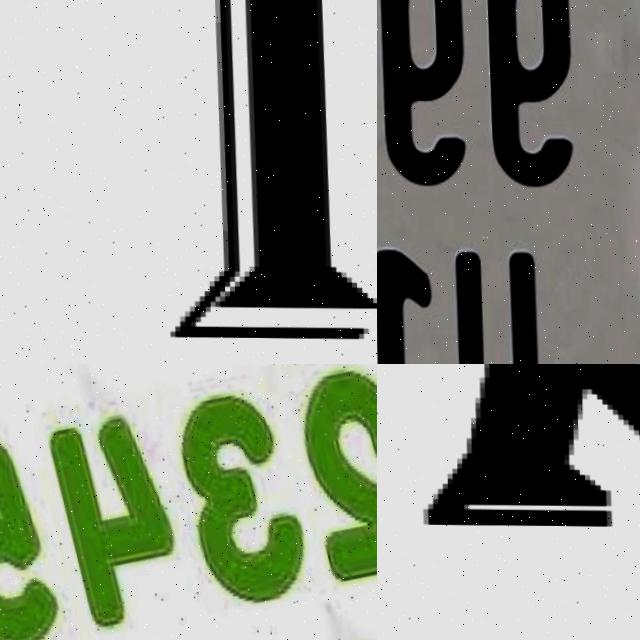1: (377, 247, 438, 364)
2: (276, 364, 377, 588)
3: (159, 380, 319, 612)
4: (28, 400, 194, 633)
5: (0, 428, 69, 640)
9: (472, 0, 575, 188), (377, 0, 470, 188)
T: (20, 0, 377, 347)
U: (443, 251, 542, 364)
X: (377, 364, 640, 536)
